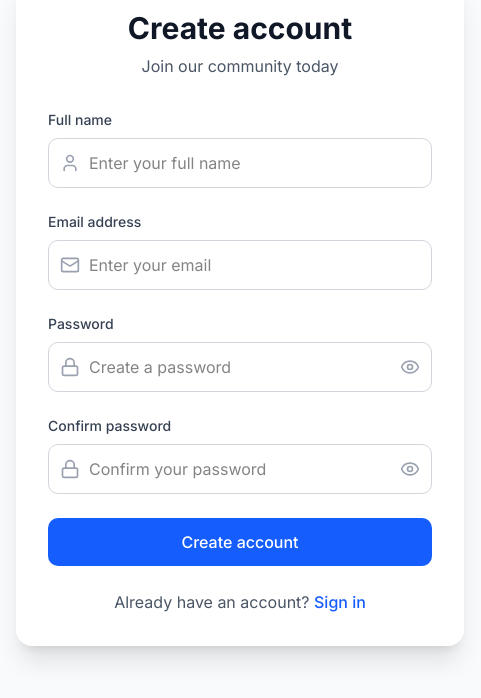
SignupForm › shows error if password is too short
In the field labelled "Full name": (240, 163) [48,138,432,188], type "John Doe"
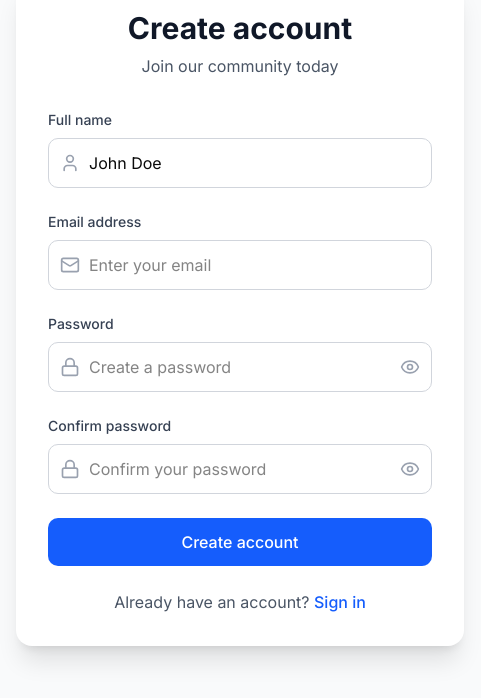
In the field labelled "Email address": (240, 265) [48,240,432,290], type "JohnDoe@gmail.com"
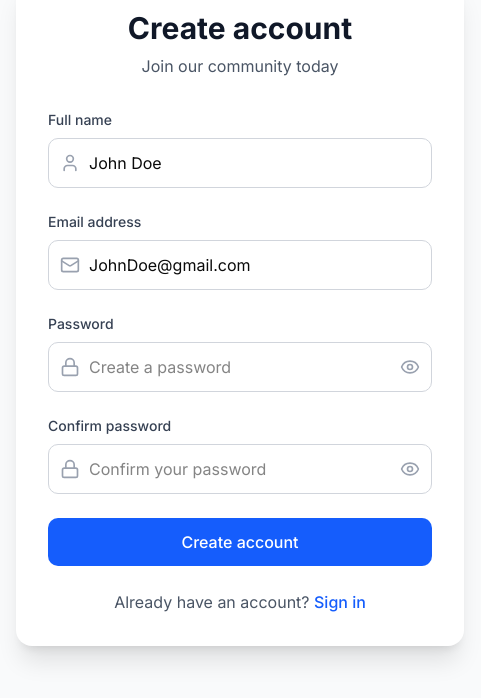
In the password field labelled "Password": (240, 367) [48,342,432,392], type "123"
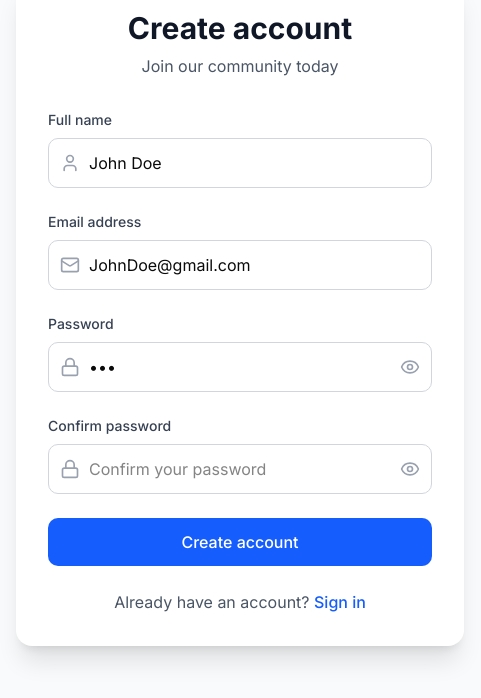
In the password field labelled "Confirm password": (240, 469) [48,444,432,494], type "123"
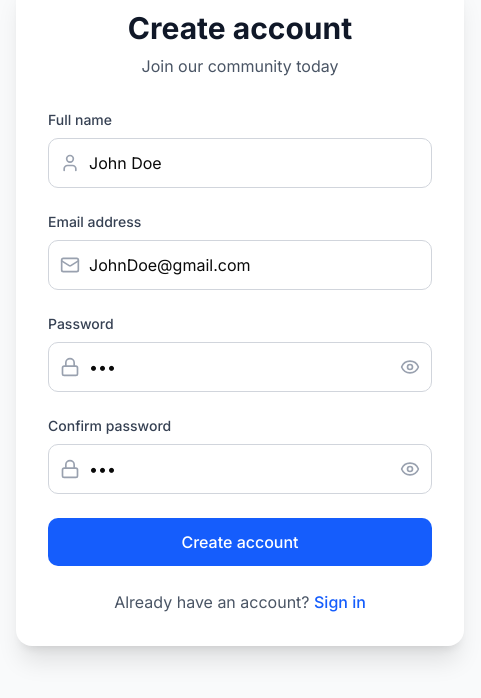
Click the button with test id "signup-submit": (240, 542) [48,518,432,566]
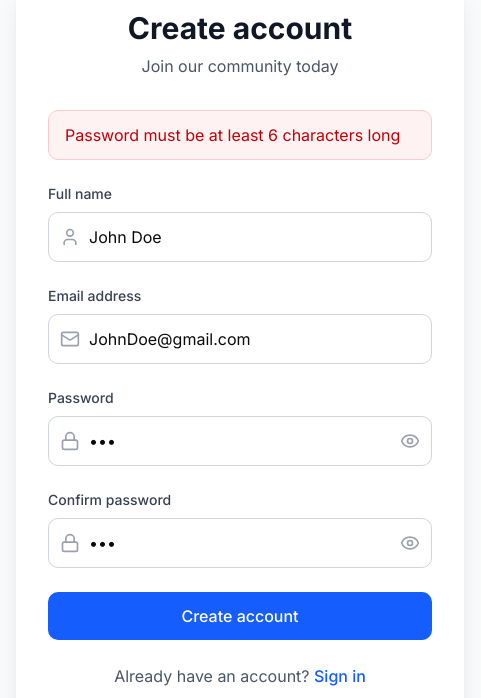
Expected: the text "Password must be at least 6 characters long" is shown, [48,110,432,160]
